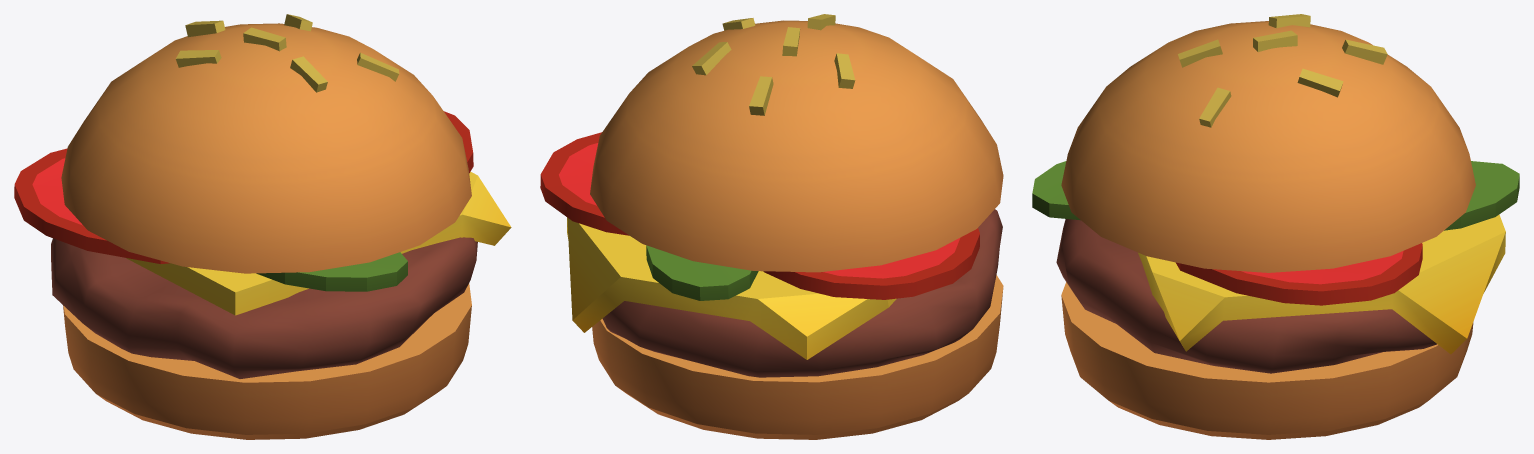
File: Burger.FBX
The picture shows the model from 3 angles, left to right: view 1: azimuth 30°, elevation 25°; view 2: azimuth 150°, elevation 25°; view 3: azimuth 270°, elevation 25°; orthographic projection.
Parts seen in each view (by area): view 1: Burger; view 2: Burger; view 3: Burger.
Boxes of the visible parts, left/top/right/bottom form: Burger: left=14, top=14, right=511, bottom=439; Burger: left=540, top=14, right=1003, bottom=439; Burger: left=1032, top=14, right=1519, bottom=439.
Bounding box in the file's own units: 19.87 × 15.04 × 20.15.
1 material, 1 textured.
